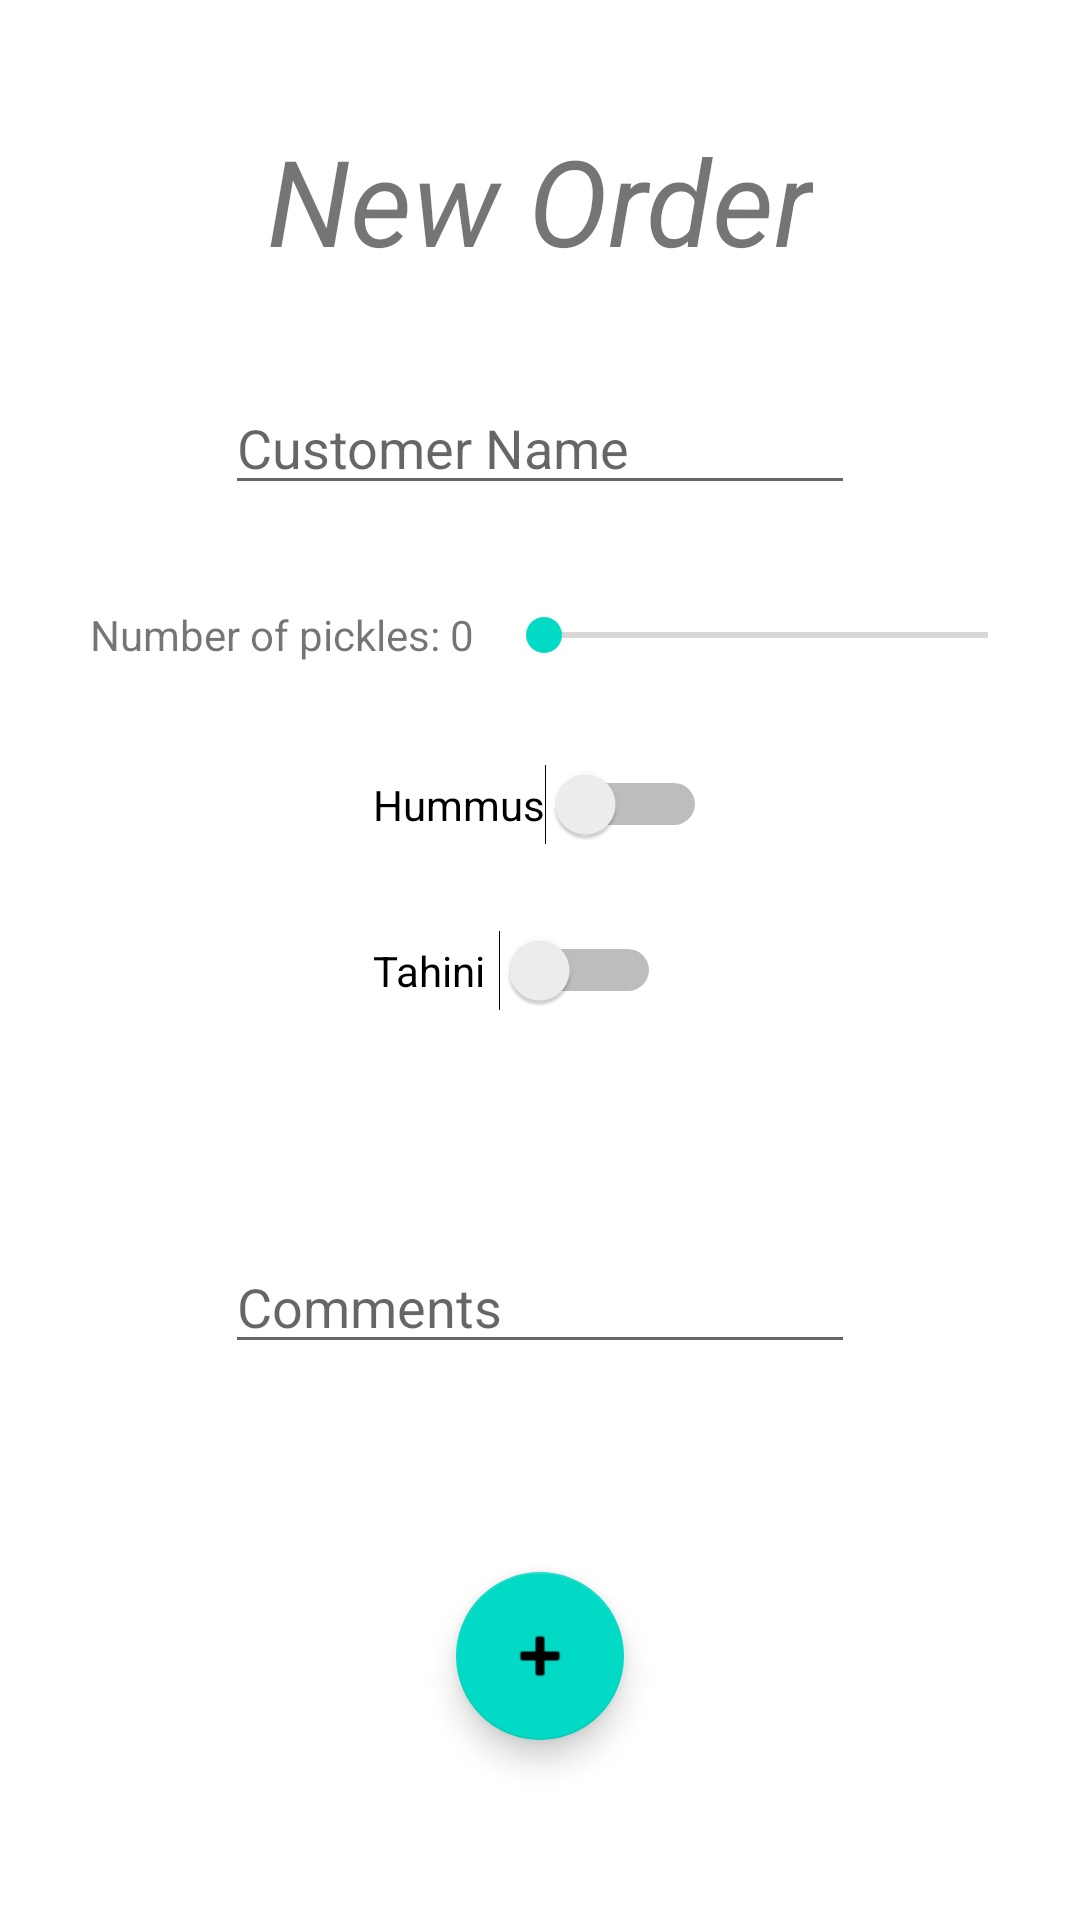

Named icons in this screenshot (1080x1920) and their bounding boxes, [x1=x1, y1=y1, x2=x2, y2=y2]:
add: [x1=456, y1=1572, x2=624, y2=1740]
